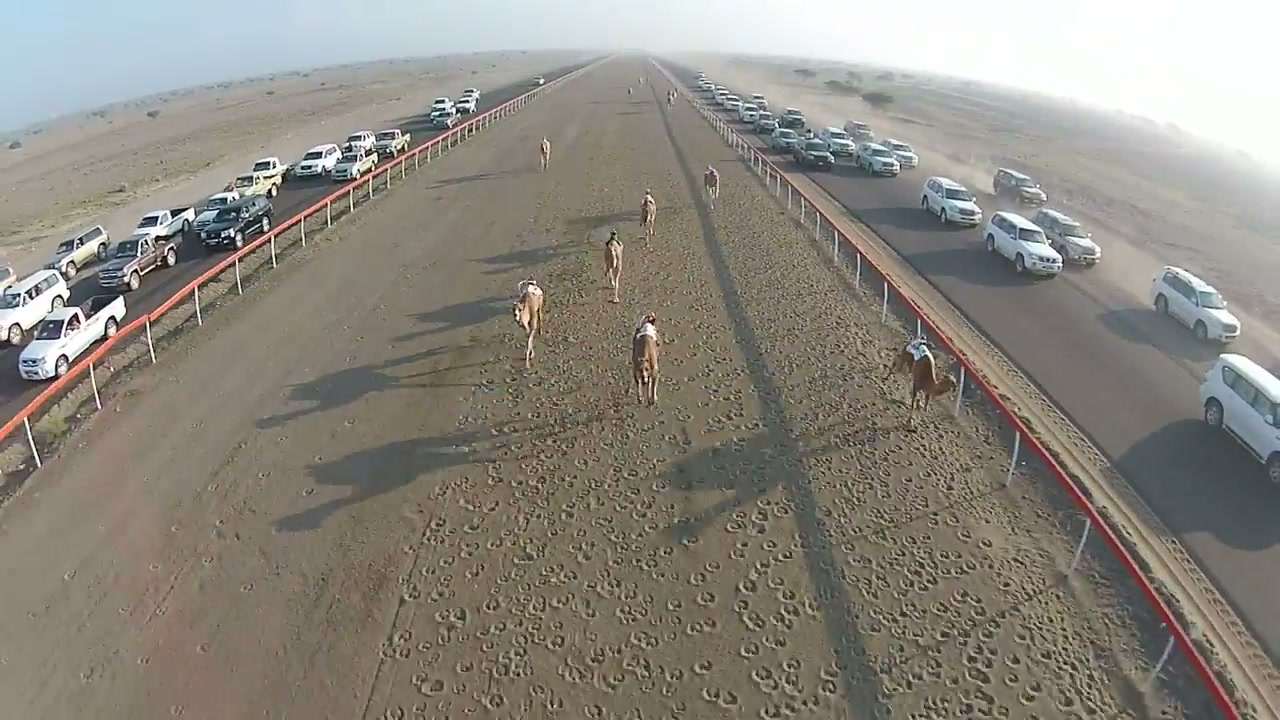animal_foot_print: (440, 355, 1031, 698)
